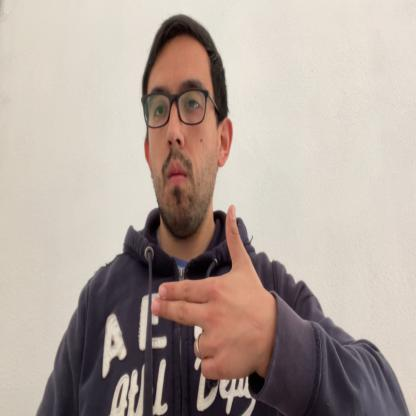H: (151, 203, 261, 378)
